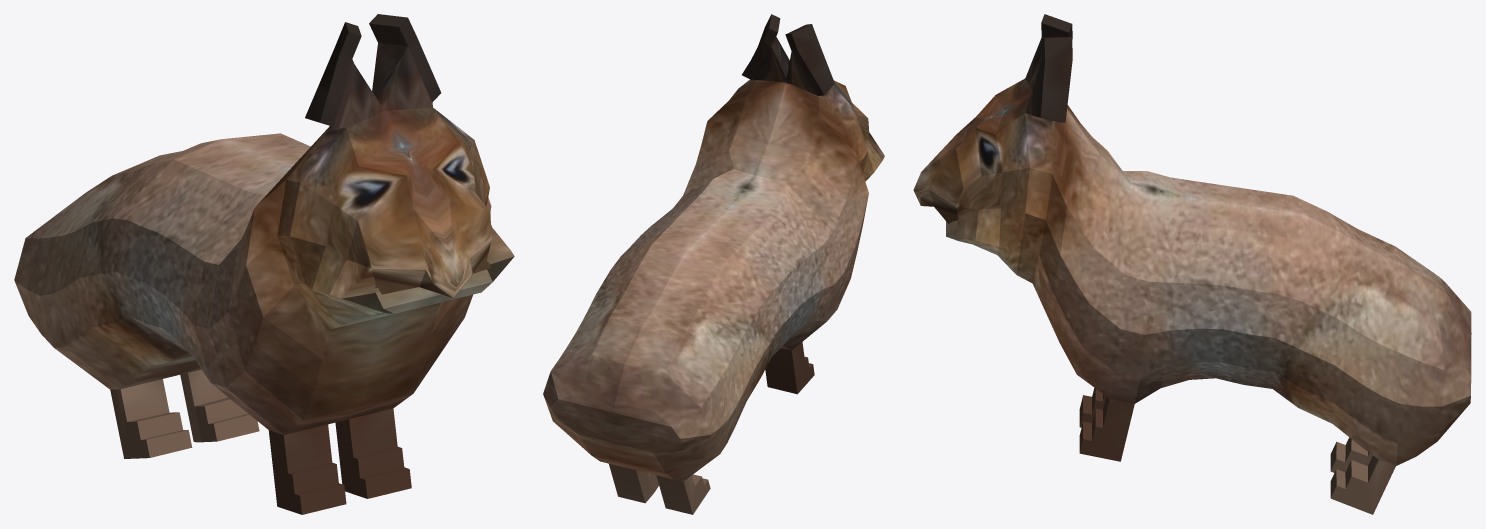
File: animalmodel.gltf
3 renders of one model, left to right at view 1: azimuth 30°, elevation 25°; view 2: azimuth 150°, elevation 25°; view 3: azimuth 270°, elevation 25°, orthographic. The views are drawn at different scales.
Parts seen in each view (by area): view 1: Plane; view 2: Plane; view 3: Plane.
Boxes of the visible parts, x1,y1,x2,y2 form: Plane: (14,14,514,514); Plane: (543,14,884,514); Plane: (913,14,1471,514).
Size of the model in its own units: 1.22 by 2.7 by 2.92.
Materials: 1 (1 with a texture image).
